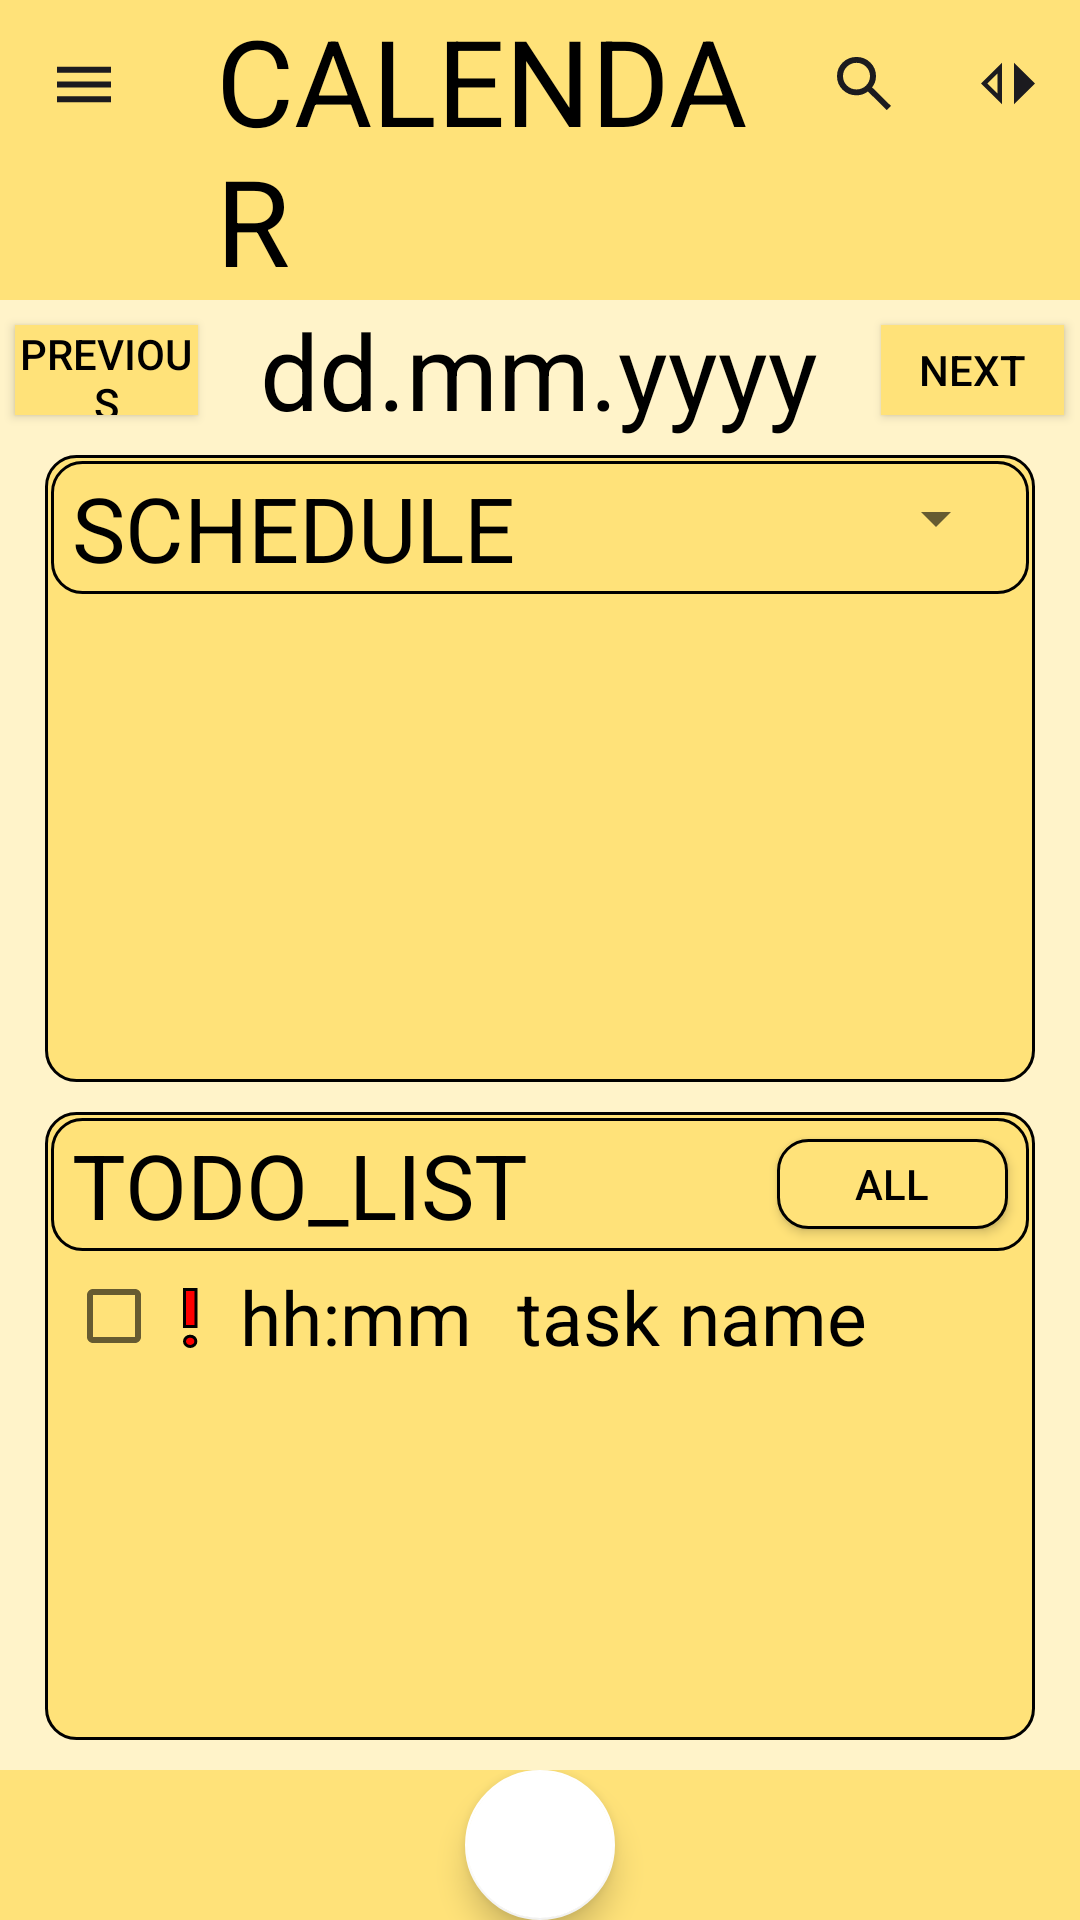

Named icons in this screenshot (1080×1920) and their centers, [x,y]:
priority: [190,1318]
